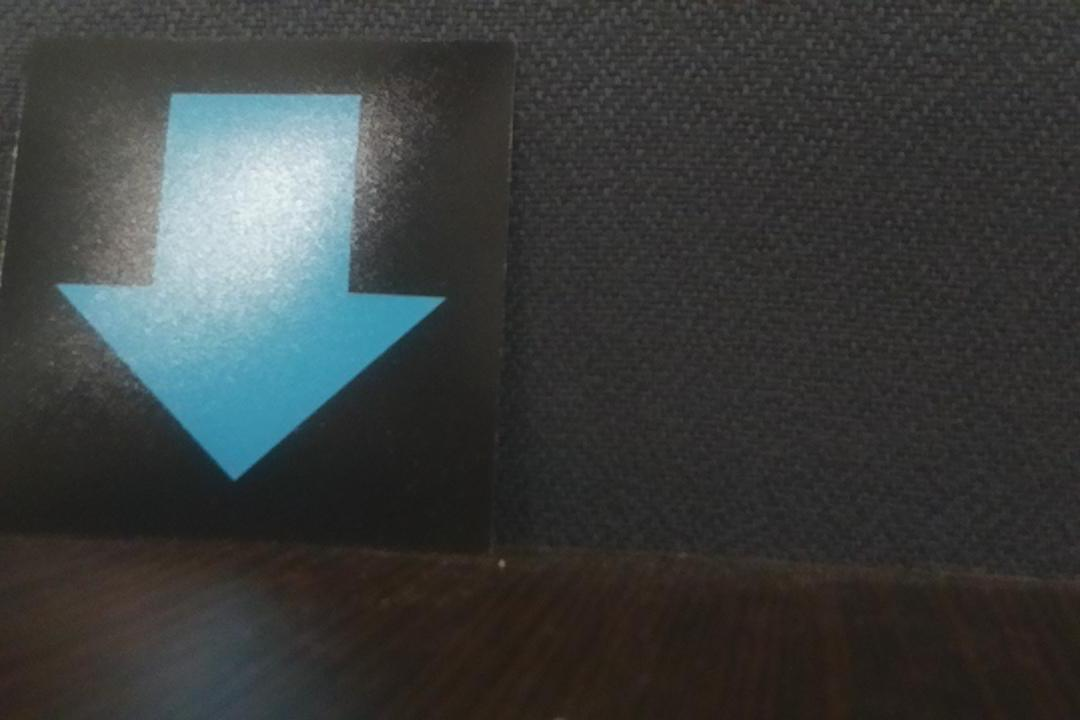down: (1, 34, 520, 553)
